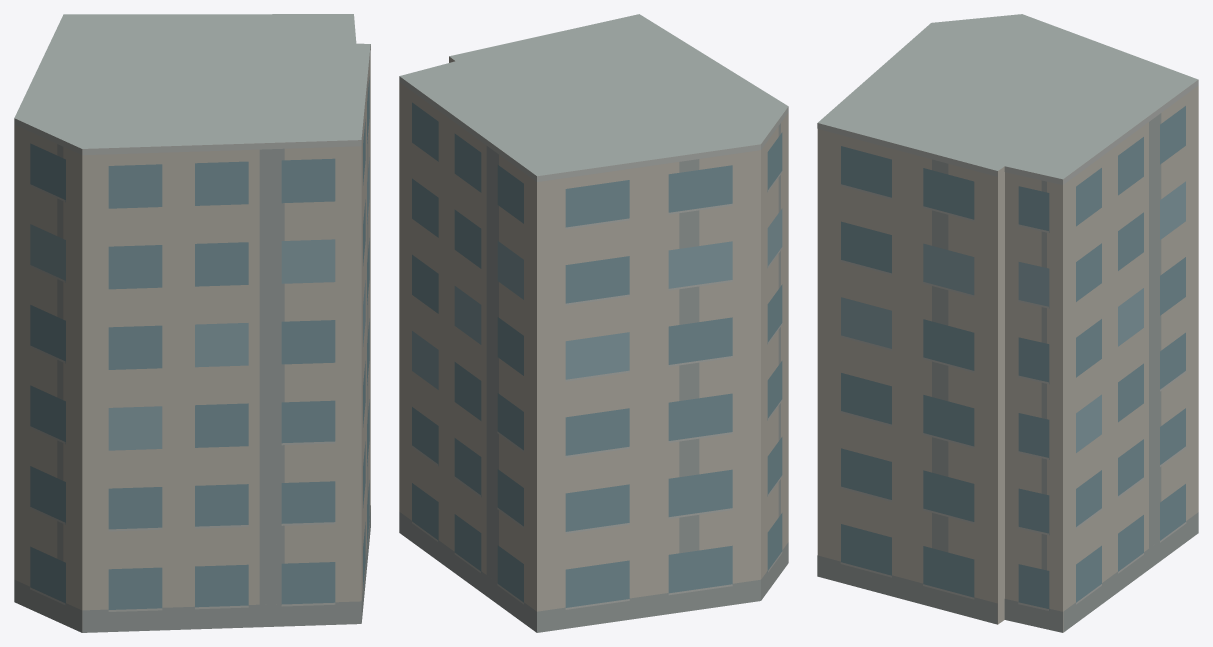
The model's file is survey-upis-32947988.glb.
3 views of the same model, side by side, from view 1: azimuth 30°, elevation 25°; view 2: azimuth 150°, elevation 25°; view 3: azimuth 270°, elevation 25° (orthographic). The views are drawn at different scales.
Parts seen in each view (by area): view 1: survey-upis-32947988.tmp; view 2: survey-upis-32947988.tmp; view 3: survey-upis-32947988.tmp.
Boxes of the visible parts, x1,y1,x2,y2 form: survey-upis-32947988.tmp: (14,14,370,632); survey-upis-32947988.tmp: (399,14,788,632); survey-upis-32947988.tmp: (817,14,1198,632).
Bounding box in the file's own units: 14.71 × 18.8 × 14.32.
